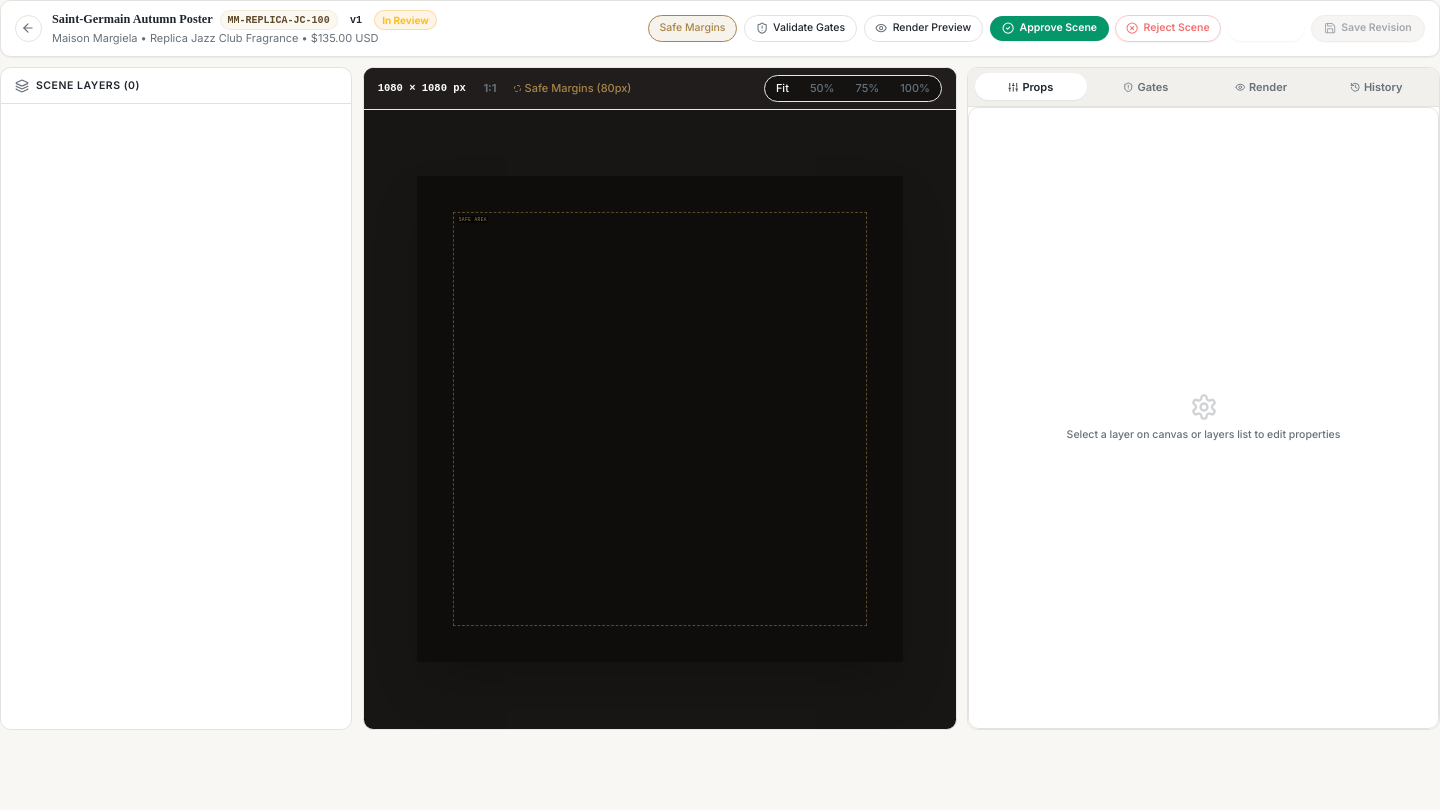
Scenario: Creative Approval Workflow & Security Governance (WEB-CREATIVE-SEC-01 to 15) › WEB-CREATIVE-SEC-06: Submitting rejection without reason displays validation error
Click the button with test id "reject-scene-button": (1168, 28) [1114,15,1221,42]
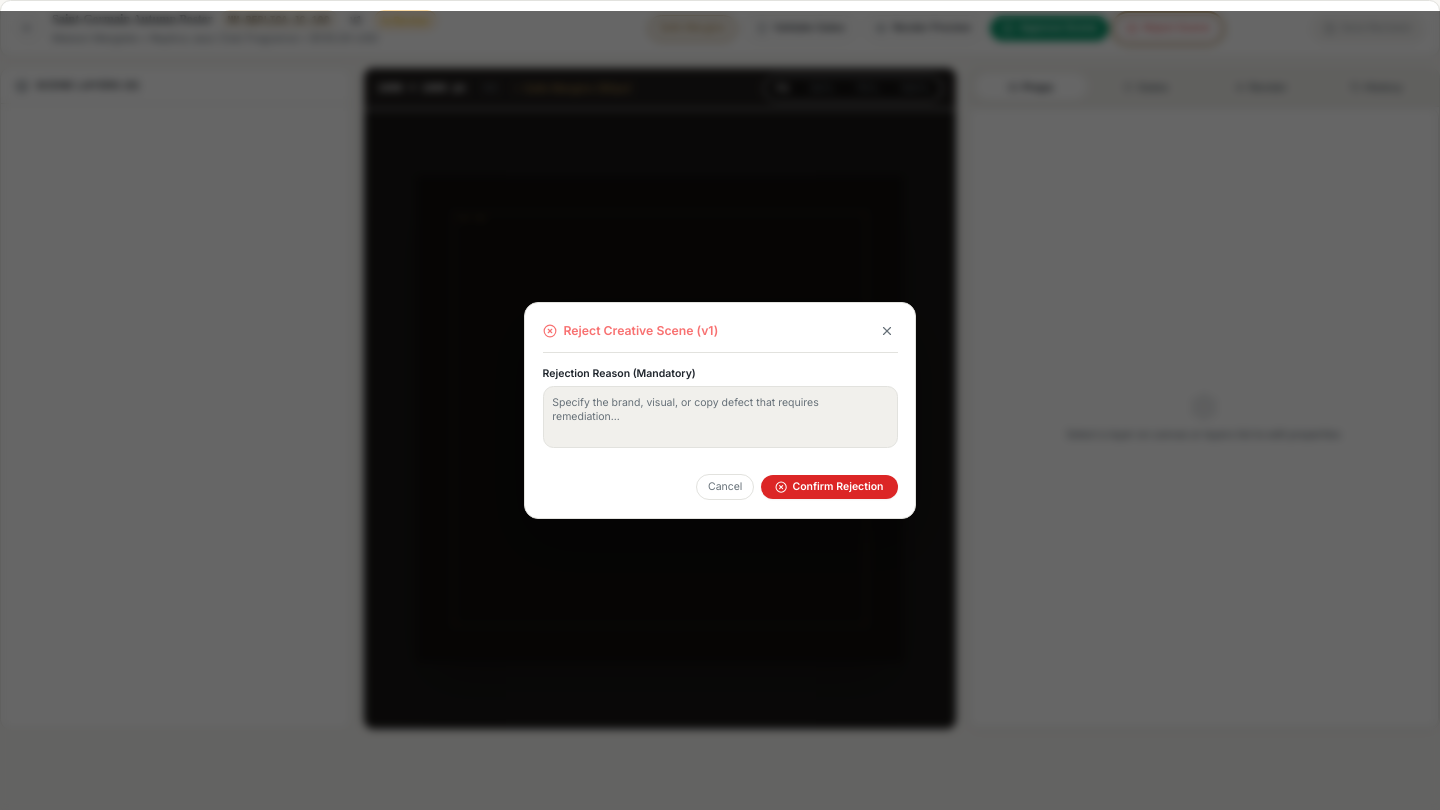
Click the button with test id "confirm-reject-button": (829, 487) [761,475,898,499]
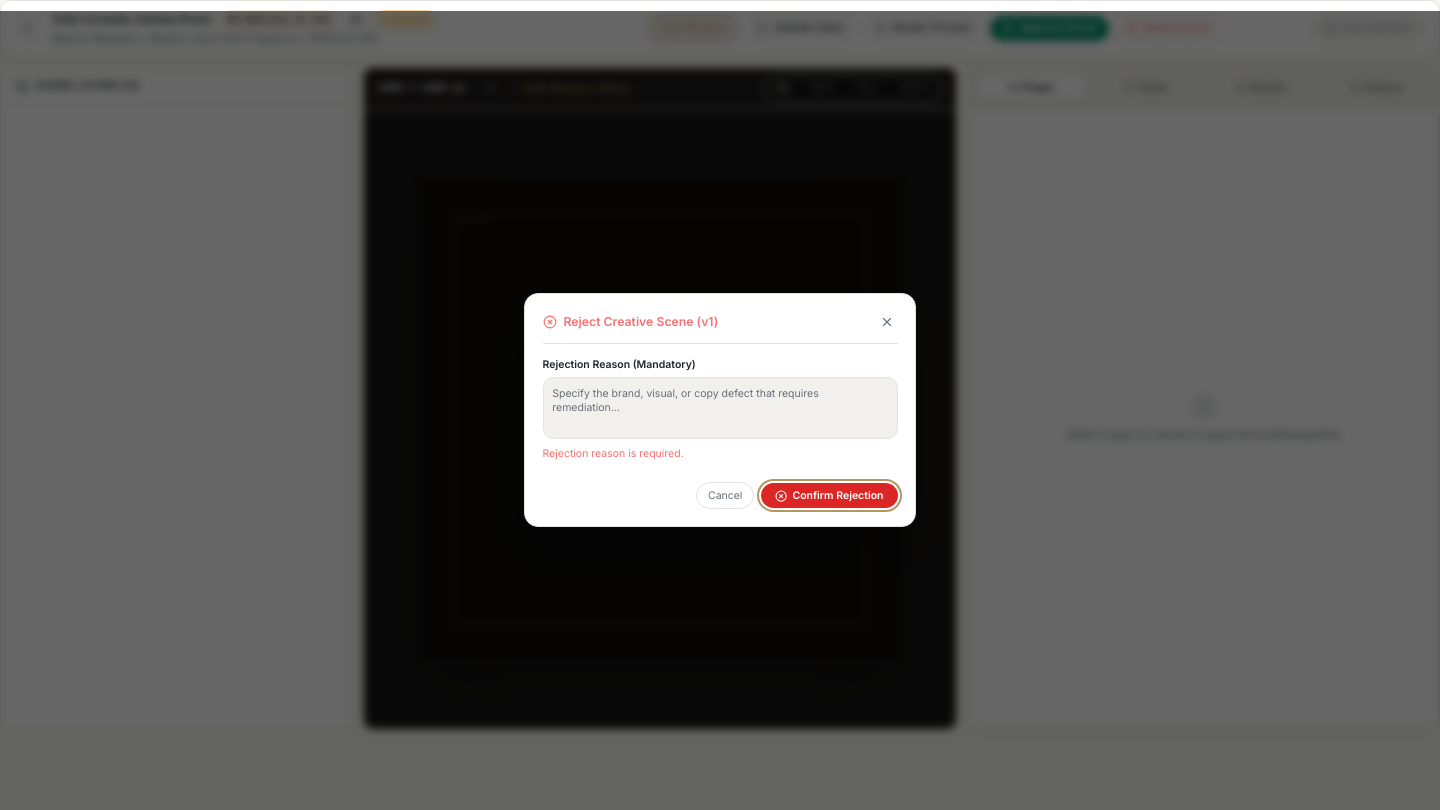
Check: the text with test id "reject-error-message" shows "Rejection reason is required", box [542,447,684,460]
